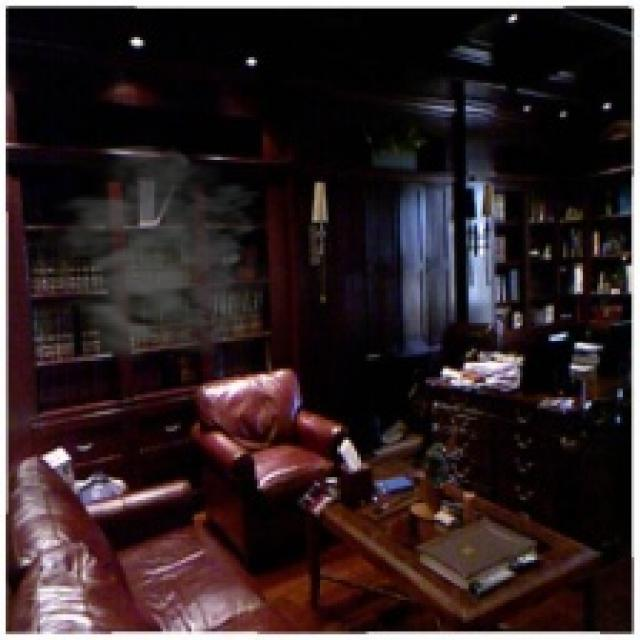Smoke: (43, 146, 286, 377)
